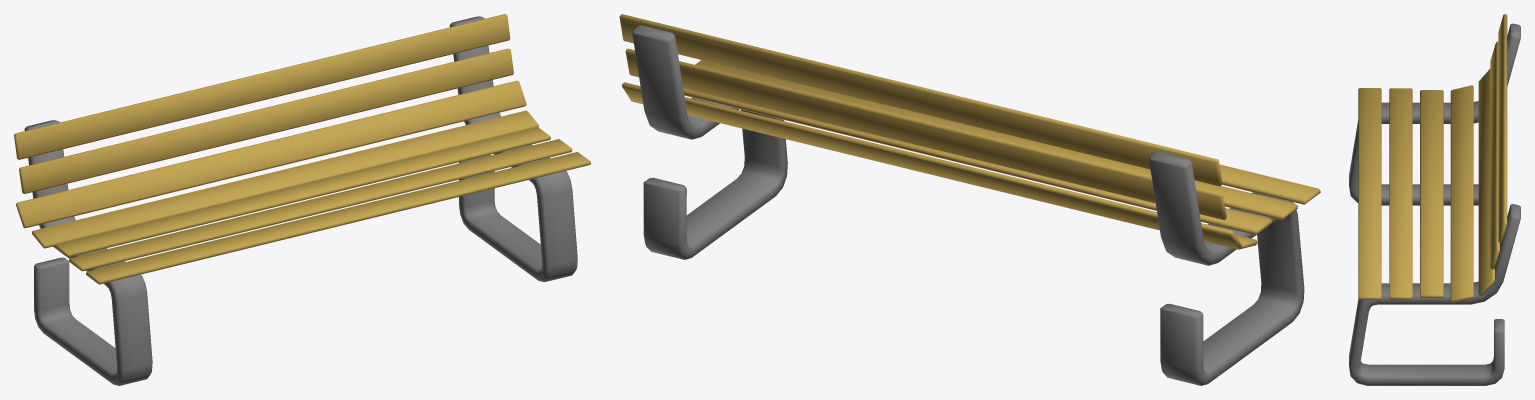
3 renders of one model, left to right at view 1: azimuth 30°, elevation 25°; view 2: azimuth 150°, elevation 25°; view 3: azimuth 270°, elevation 25°, orthographic. The views are drawn at different scales.
Parts seen in each view (by area): view 1: Vert.018; view 2: Vert.018; view 3: Vert.018.
Part boxes in pixels (x1,y1,x2,y2): Vert.018: (14,14,590,385); Vert.018: (619,14,1320,385); Vert.018: (1349,14,1520,385).
Bounding box in the file's own units: 236 × 88.85 × 80.44.
